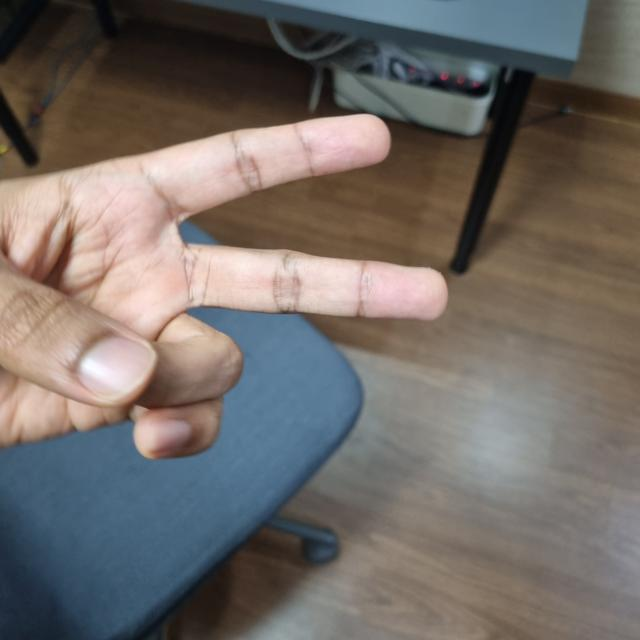Scissors: (0, 119, 440, 461)
